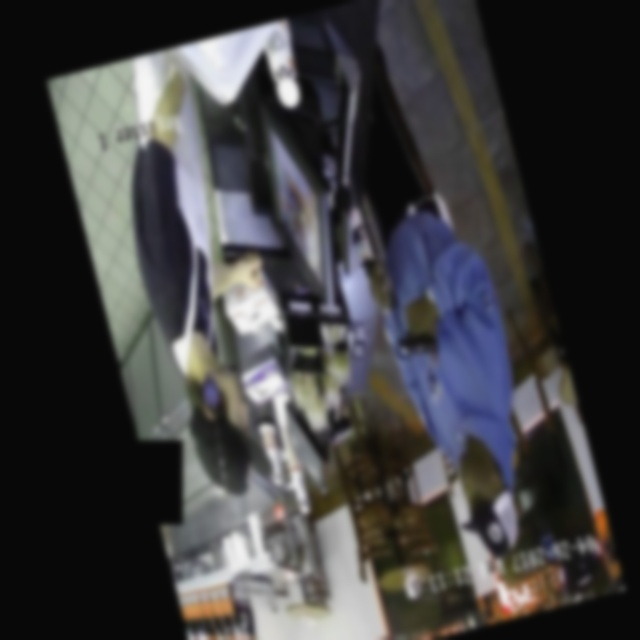gun: (381, 302, 455, 387)
